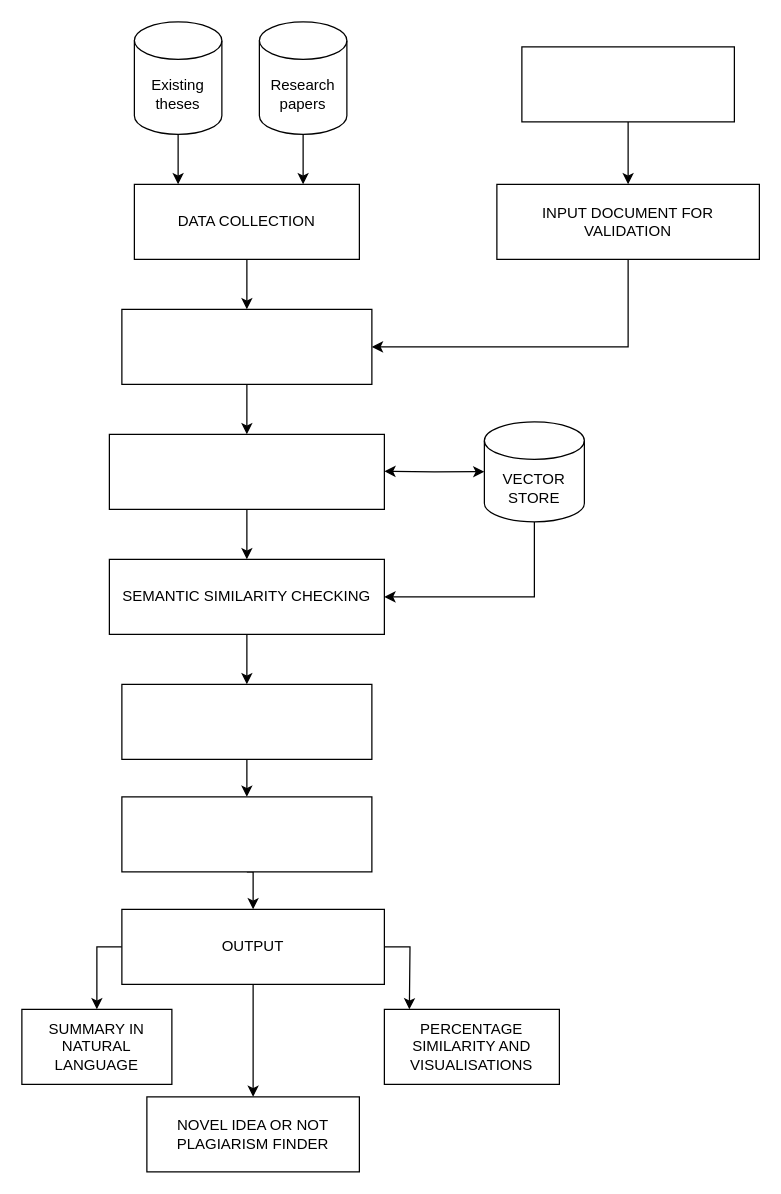
This 781x1194 diagram has some shape labels left out. The shapes that lost their labels are listed below. From the top down, each one's centre as x and y in pixels, then its label:
[627,84]: USER INTERFACE
[246,346]: DATA PREPROCESSING
[246,471]: EMBEDDING GENERATION
[246,721]: TOP K SIMILAR IDEA DOCUMENTS
[246,834]: RETRIEVAL AUGMENTED GENERATION
